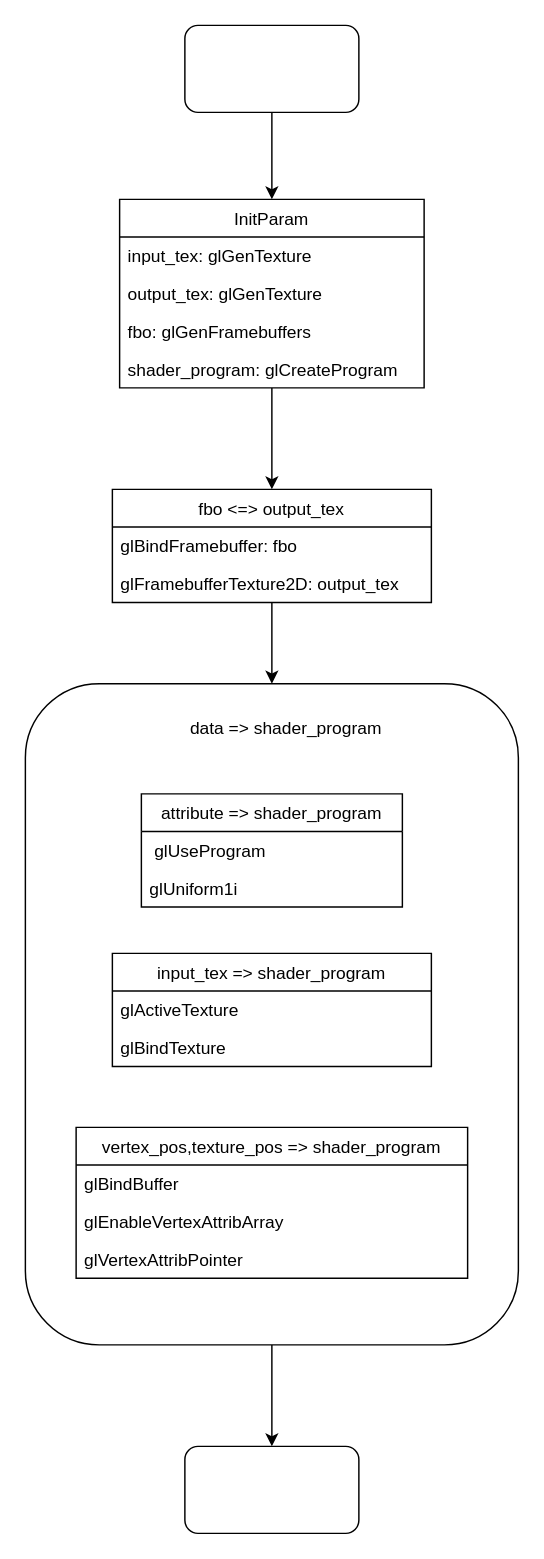
Image size: 544x1559. Some labels were removed from this diagram. Each missing label, with the centre of its shape:
"glViewport glDisable glDrawArrays" belongs at (x=271, y=1489).
"inputRawFrame cpu i420" belongs at (x=271, y=68).
